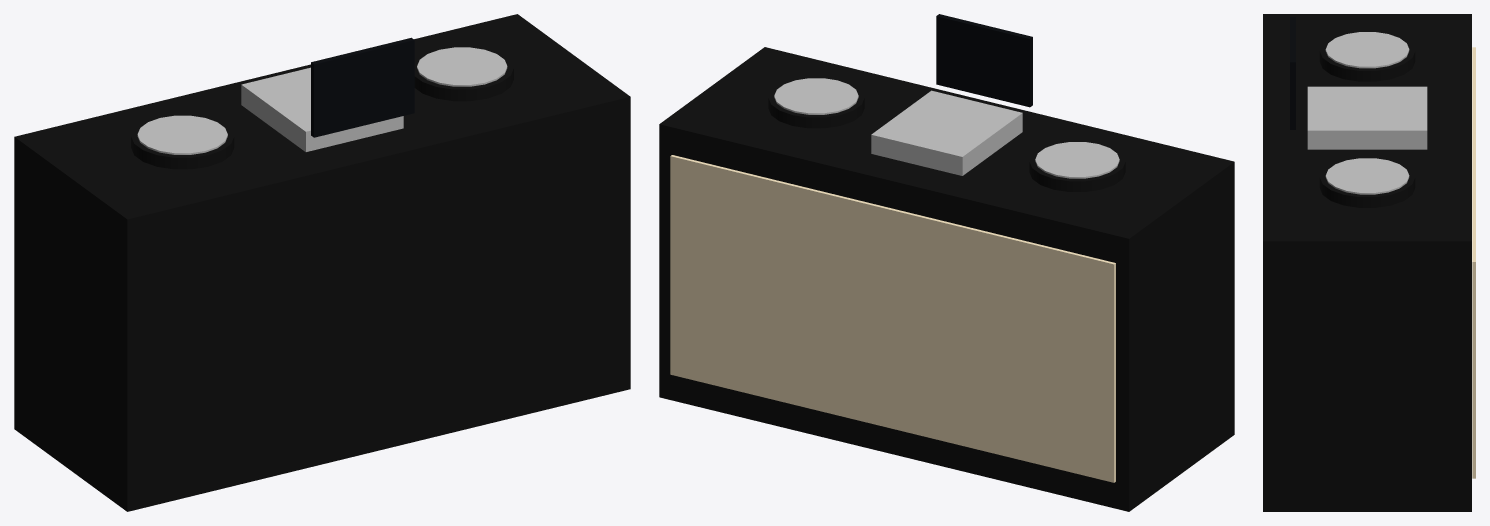
File: hospitality.function.dj_booth.glb
The picture shows the model from 3 angles, left to right: view 1: azimuth 30°, elevation 25°; view 2: azimuth 150°, elevation 25°; view 3: azimuth 270°, elevation 25°; orthographic projection. The views are drawn at different scales.
Visible parts, largest first — view 1: main__plastic_black, main__steel_stainless, main__screen; view 2: main__glow, main__plastic_black, main__steel_stainless, main__screen; view 3: main__plastic_black, main__steel_stainless, main__glow, main__screen.
Part boxes in pixels (box(x1,y1,x2,y2)): main__plastic_black: box(14, 14, 630, 511); main__steel_stainless: box(137, 47, 507, 154); main__screen: box(311, 37, 414, 137); main__glow: box(670, 155, 1115, 482); main__plastic_black: box(659, 47, 1234, 511); main__steel_stainless: box(774, 78, 1119, 178); main__screen: box(936, 14, 1032, 107); main__plastic_black: box(1263, 14, 1471, 511); main__steel_stainless: box(1307, 32, 1427, 194); main__glow: box(1472, 47, 1475, 478); main__screen: box(1290, 17, 1295, 129).
Bounding box in the file's own units: 1.8 × 1.33 × 0.713.
